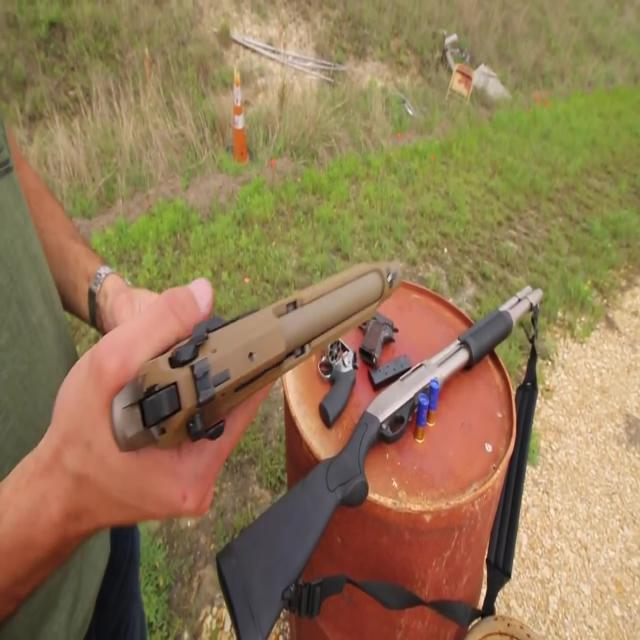Weapon: (77, 222, 578, 640)
